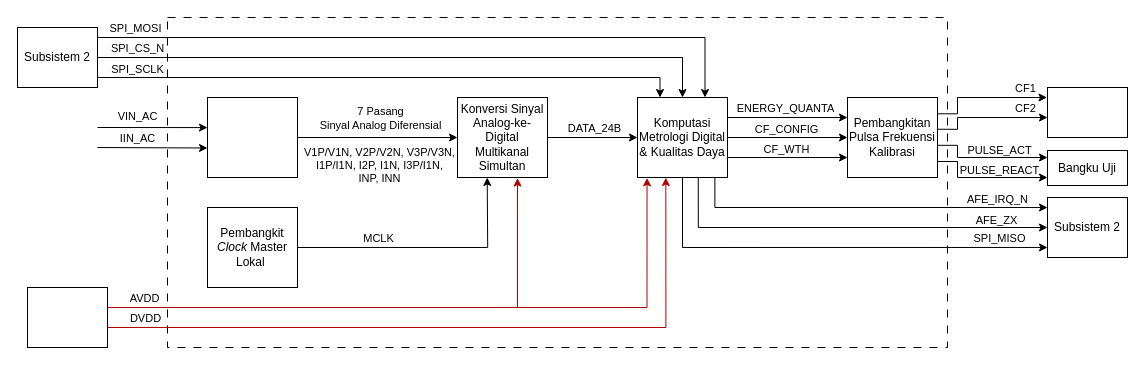
The diagram is 1145 pixels wide and 365 high, and some of its shapes have lost their labels. The centre of each missing label's shape, as x and y in pixels:
"Header Kalibrasi & Subsistem 2" goes at point 1087,112.
"Pengondisian & Atenuasi Sinyal Analog" goes at point 252,137.
"Subsistem 3" goes at point 67,317.
